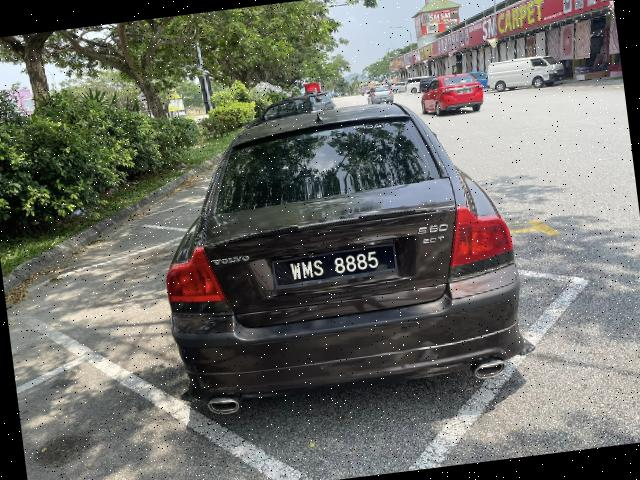License_Plate: (273, 247, 397, 290)
car: (141, 79, 542, 425)
